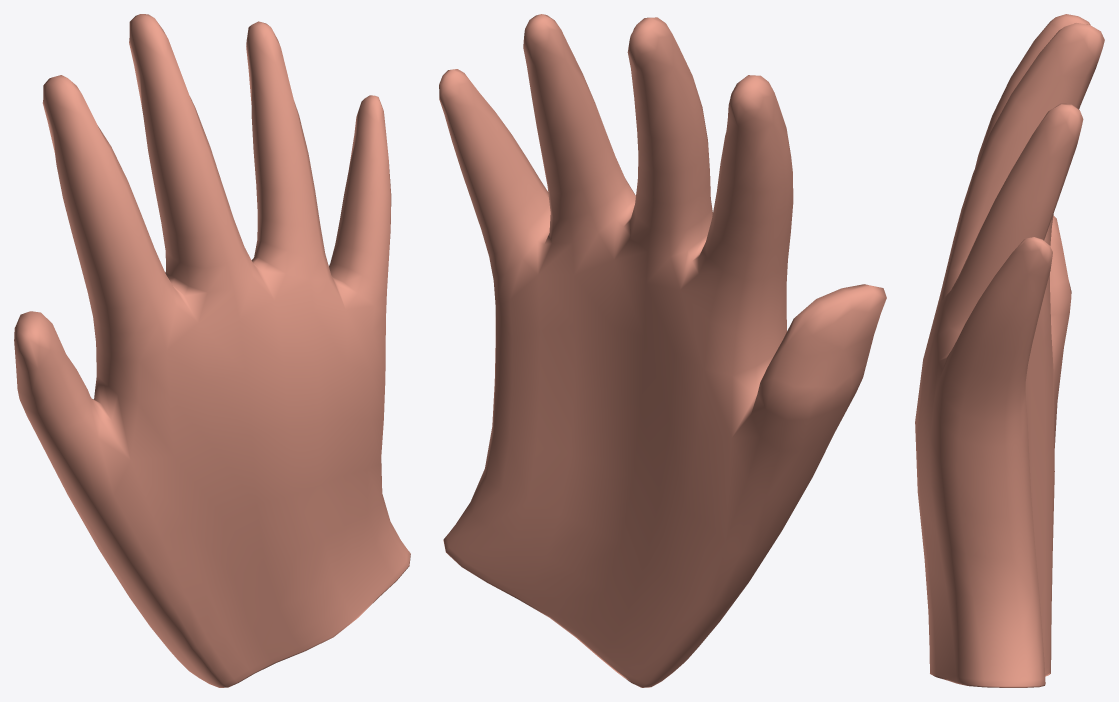
File: Manuta.fbx
3 views of the same model, side by side, from view 1: azimuth 30°, elevation 25°; view 2: azimuth 150°, elevation 25°; view 3: azimuth 270°, elevation 25° (orthographic). The views are drawn at different scales.
Visible parts, largest first — view 1: Cube; view 2: Cube; view 3: Cube.
Part boxes in pixels (left/top/right/bottom): Cube: left=14, top=14, right=410, bottom=687; Cube: left=439, top=14, right=886, bottom=687; Cube: left=915, top=14, right=1104, bottom=687.
Size of the model in its own units: 281 by 438 by 118.
